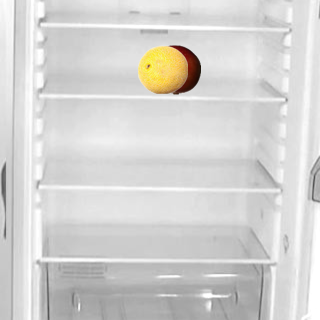Apple Braeburn: (150, 44, 200, 94)
Cantaloupe 1: (137, 44, 187, 94)
